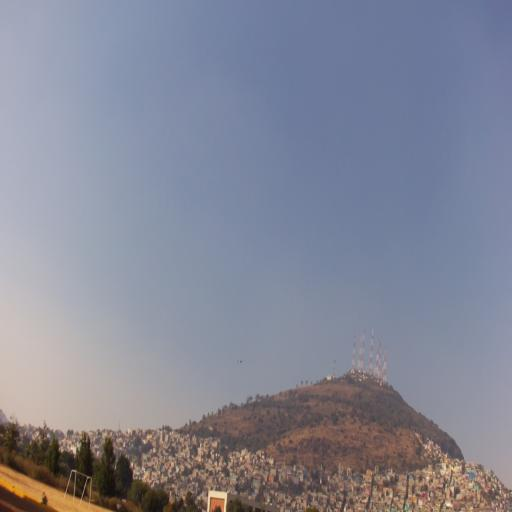drones: (237, 357, 244, 365)
